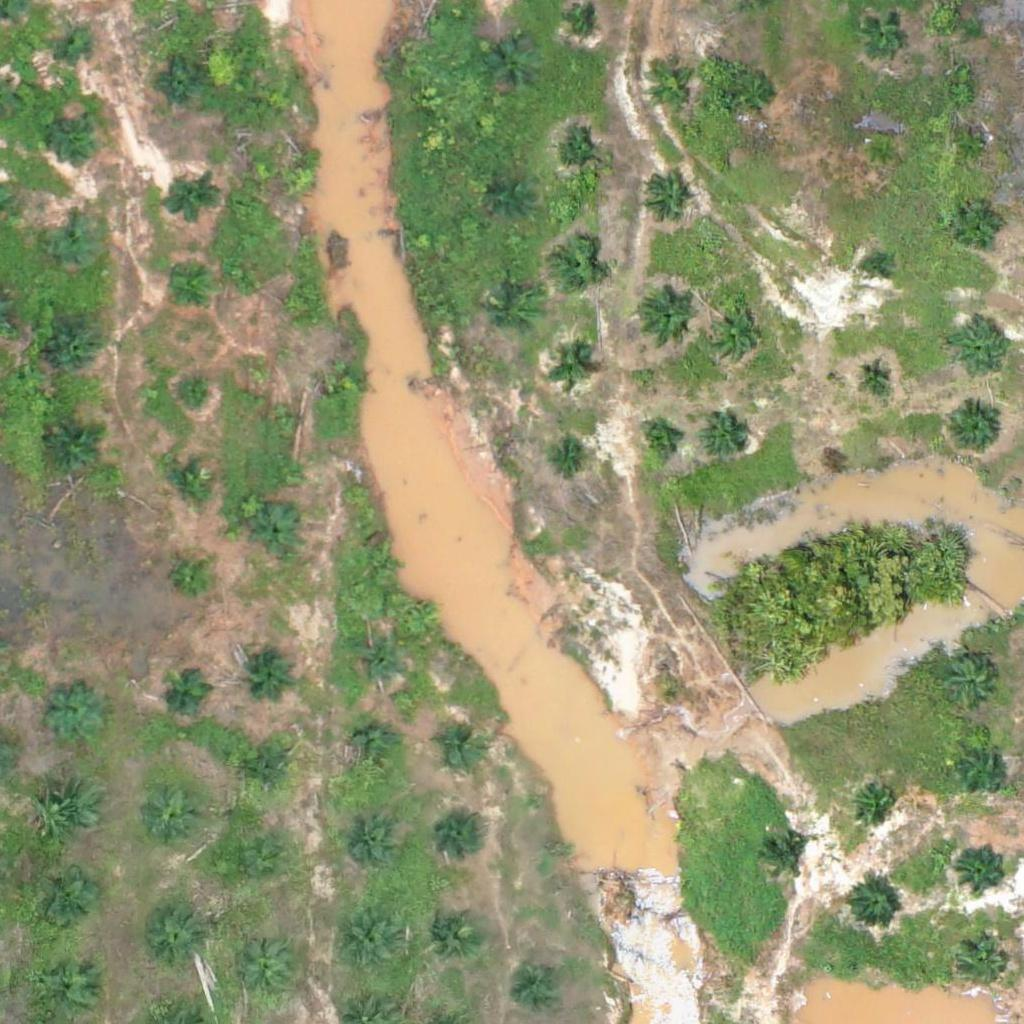Kelapa_Sawit: (223, 838, 286, 901), (338, 814, 401, 877), (45, 214, 108, 277), (336, 911, 399, 974), (33, 956, 96, 1019), (703, 303, 766, 366), (34, 870, 96, 933), (145, 785, 207, 848), (44, 683, 106, 746), (144, 906, 206, 969), (233, 944, 295, 1007), (423, 902, 485, 965), (943, 399, 1005, 462), (947, 317, 1009, 380), (40, 783, 102, 846), (637, 285, 699, 348), (52, 321, 102, 372), (51, 424, 101, 475), (733, 68, 783, 119), (946, 660, 996, 711), (957, 743, 1007, 794), (957, 841, 1007, 892), (953, 198, 1003, 249), (162, 456, 212, 507), (646, 62, 696, 113), (53, 112, 103, 162), (439, 813, 489, 863), (246, 644, 296, 694), (164, 669, 214, 719), (353, 639, 403, 689), (252, 508, 302, 558), (349, 724, 399, 774), (435, 723, 485, 773), (848, 881, 898, 931), (517, 959, 567, 1009), (959, 942, 1009, 992), (851, 777, 901, 827), (760, 833, 810, 883), (243, 748, 293, 798), (554, 133, 604, 183), (552, 242, 602, 292), (641, 175, 691, 225), (701, 411, 751, 461), (166, 176, 216, 226), (164, 266, 214, 316), (861, 8, 911, 58), (488, 41, 538, 91), (157, 61, 207, 111), (490, 292, 540, 342), (361, 546, 399, 584), (173, 557, 211, 595), (551, 347, 589, 385), (552, 438, 590, 476), (639, 421, 677, 459), (265, 398, 303, 436), (275, 285, 313, 323), (281, 160, 319, 198), (59, 20, 97, 58), (858, 358, 895, 396), (329, 360, 366, 398), (862, 134, 900, 171), (492, 180, 529, 218), (955, 128, 992, 166), (175, 379, 212, 416), (864, 255, 889, 280), (571, 9, 596, 34)
